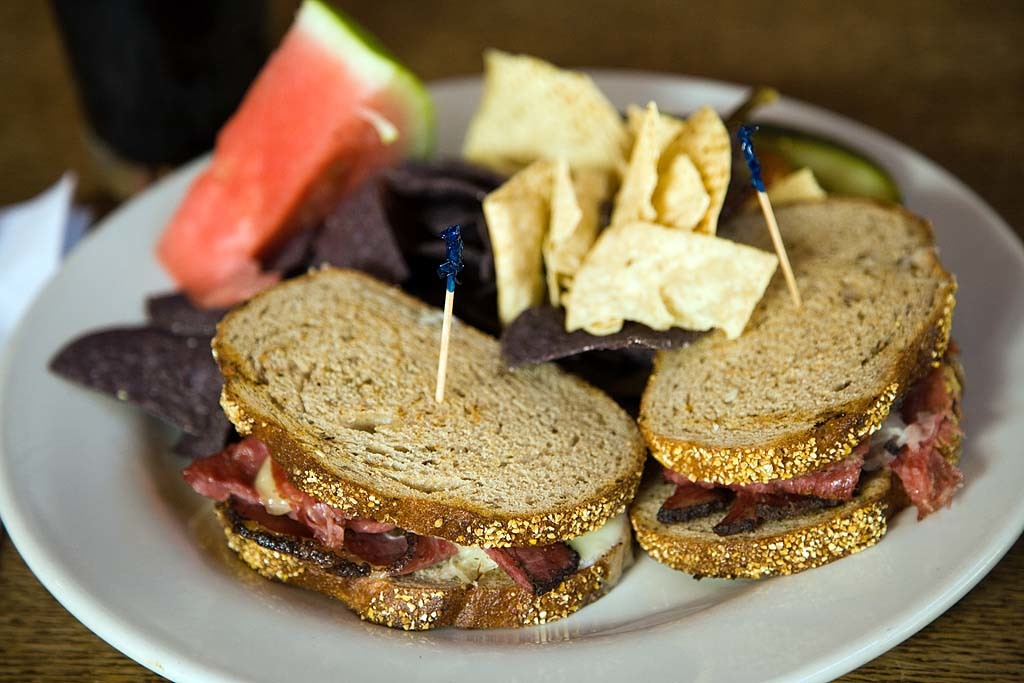sandwich: (184, 260, 650, 635), (624, 193, 971, 581)
